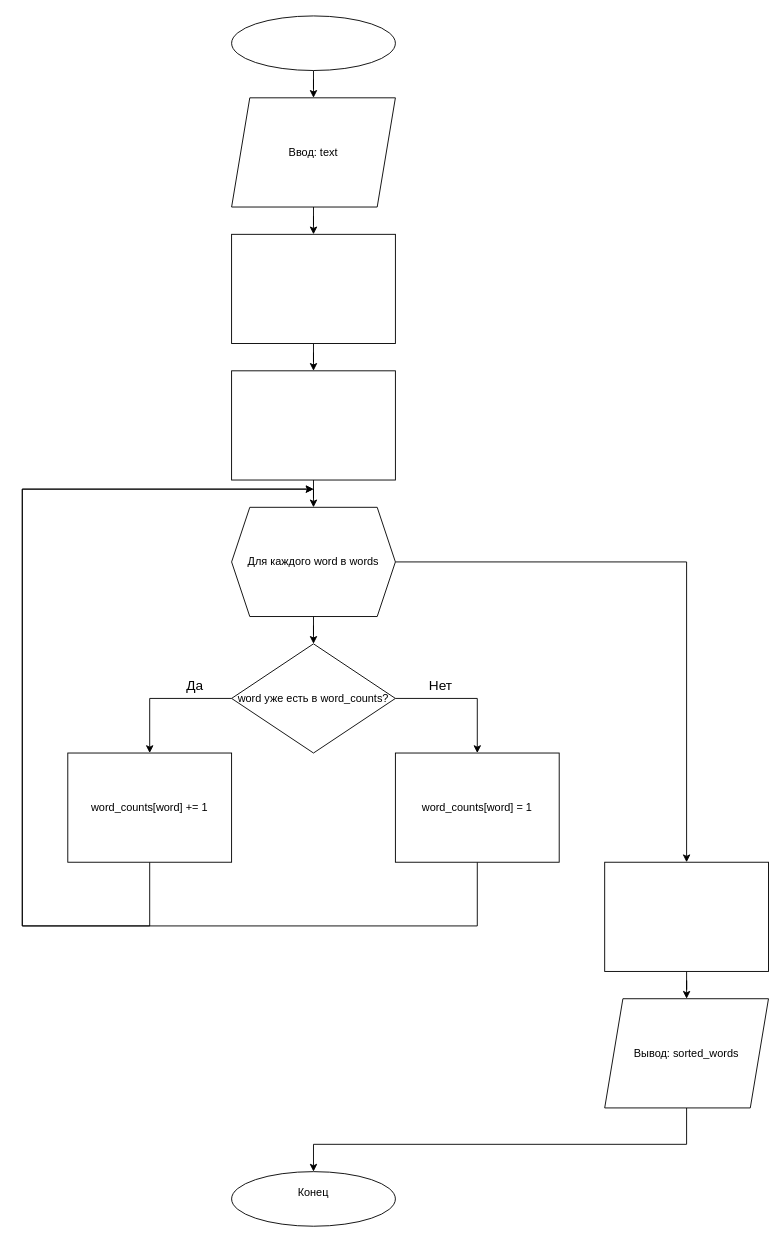
Some shapes in this 784 by 1242 pixel diagram are drawn without their labels. Here are the shapes that lost their labels. From the top down, the centre of each, then its label:
At point 313,43: "Начало".
At point 313,288: "words = text.lower().split()".
At point 313,425: "word_counts = {}".
At point 686,916: "sorted_words = sorted(word_counts.items(), key=lambda x: x[1], reverse=True)[:5]".
